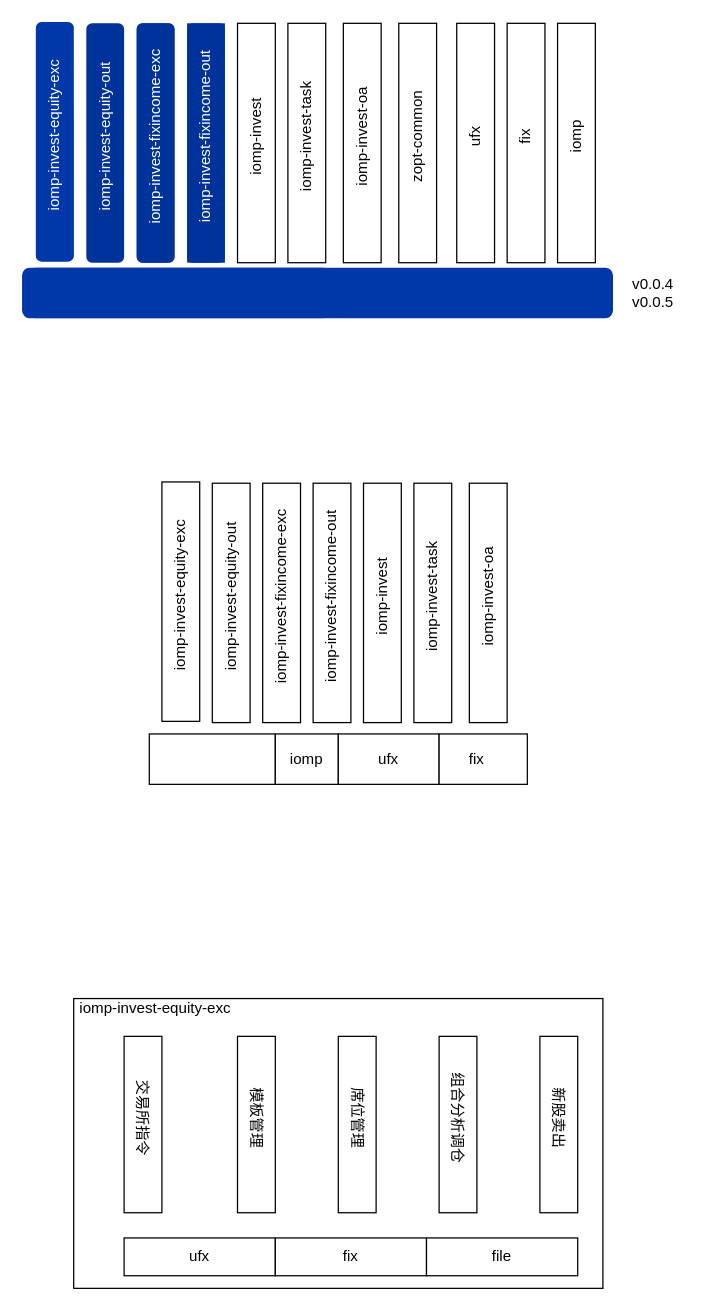
This 712x1310 diagram has some shape labels left out. Here are the shapes that lost their labels. From the top down, the box of each, then its label:
(34, 267, 324, 318): zofund-base
(148, 733, 275, 784): zofund-common
